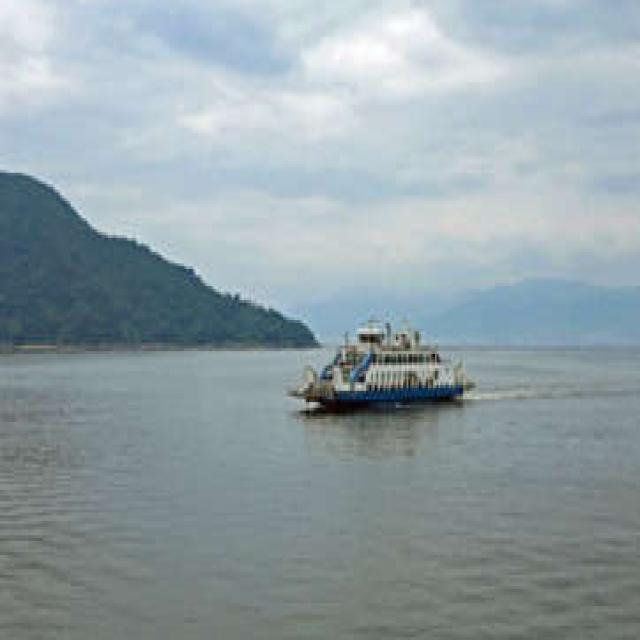passenger ship: (289, 302, 465, 405)
